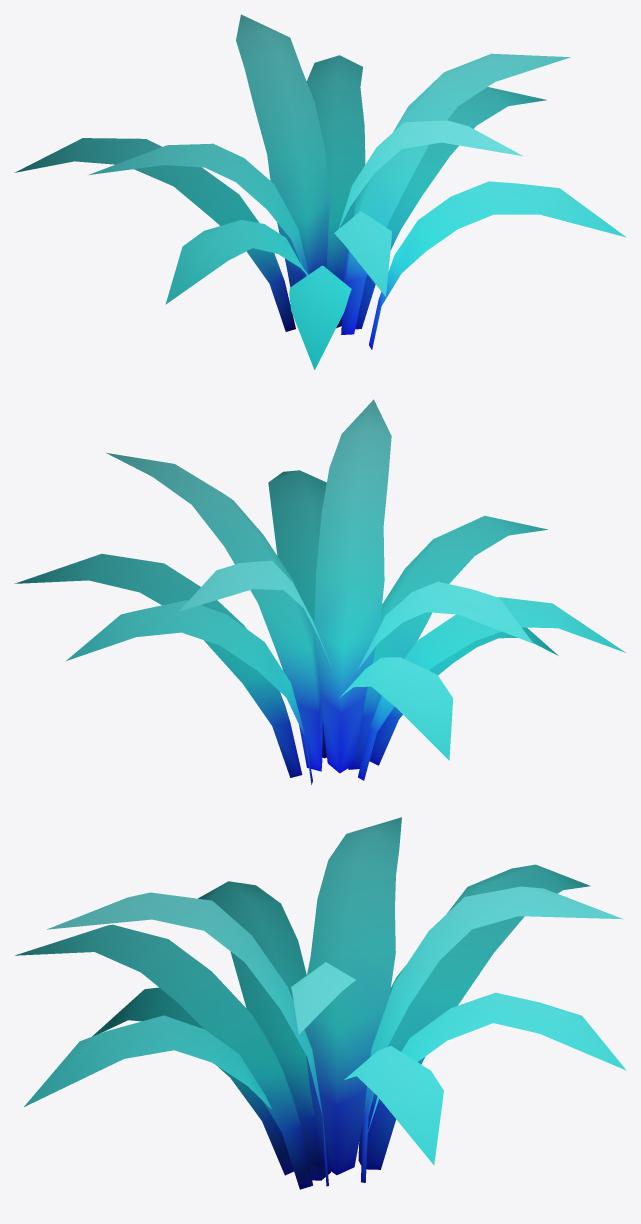
File: SM_Env_Fern_02.gltf
3 renders of one model, top to bottom at view 1: azimuth 30°, elevation 25°; view 2: azimuth 150°, elevation 25°; view 3: azimuth 270°, elevation 25°, orthographic. The views are drawn at different scales.
Parts seen in each view (by area): view 1: SM_Env_Fern_02_LOD0; view 2: SM_Env_Fern_02_LOD0; view 3: SM_Env_Fern_02_LOD0.
Part boxes in pixels (left/top/right/bottom): SM_Env_Fern_02_LOD0: left=14, top=14, right=626, bottom=370; SM_Env_Fern_02_LOD0: left=14, top=399, right=625, bottom=784; SM_Env_Fern_02_LOD0: left=15, top=817, right=626, bottom=1189.
Bounding box in the file's own units: 3.01 × 1.58 × 2.7.
